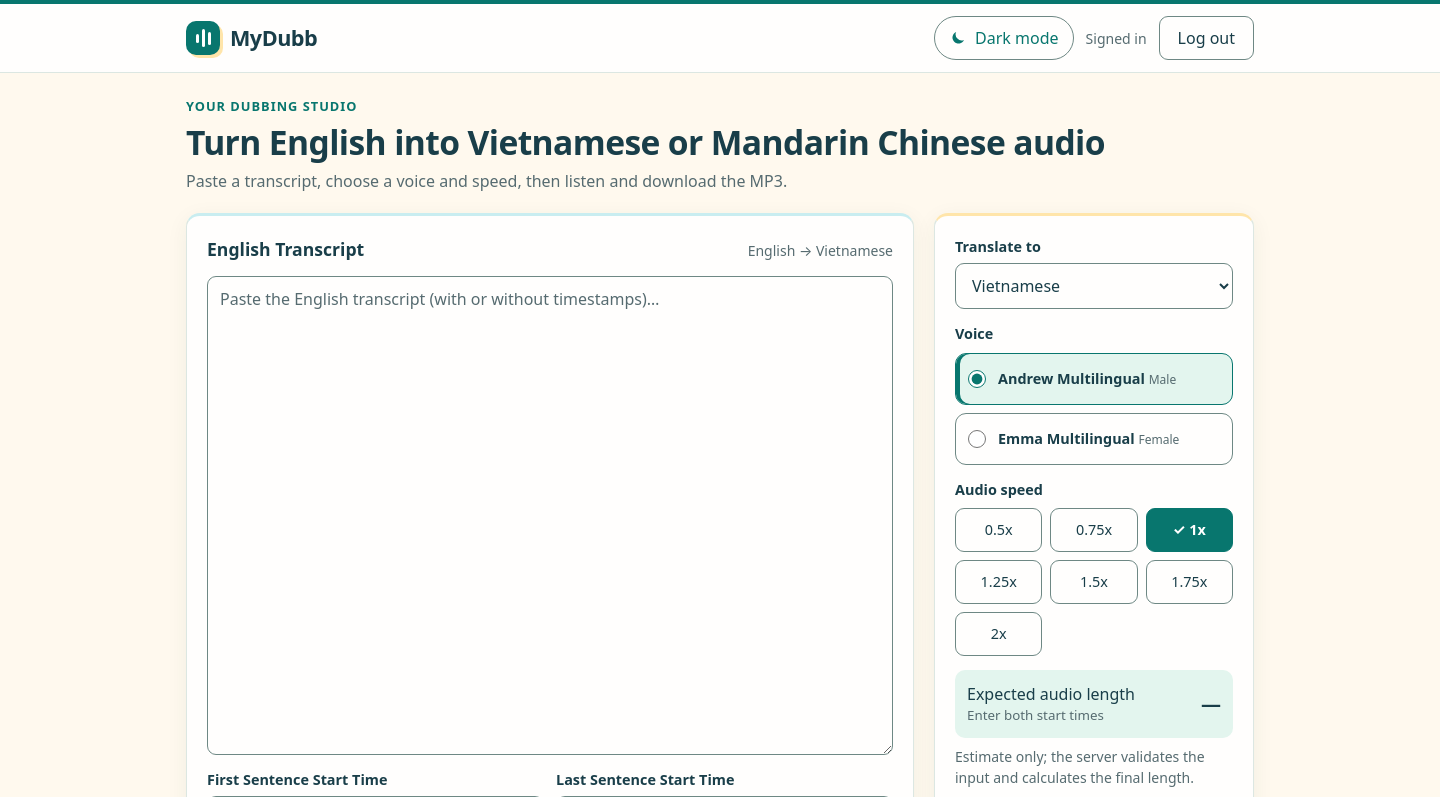
Translate to › sends Vietnamese by default
Type "Spring Boot uses JSON." into the text box labelled "English Transcript" at x=550, y=515, box x1=207 y1=276 x2=893 y2=755
(page scrolled)
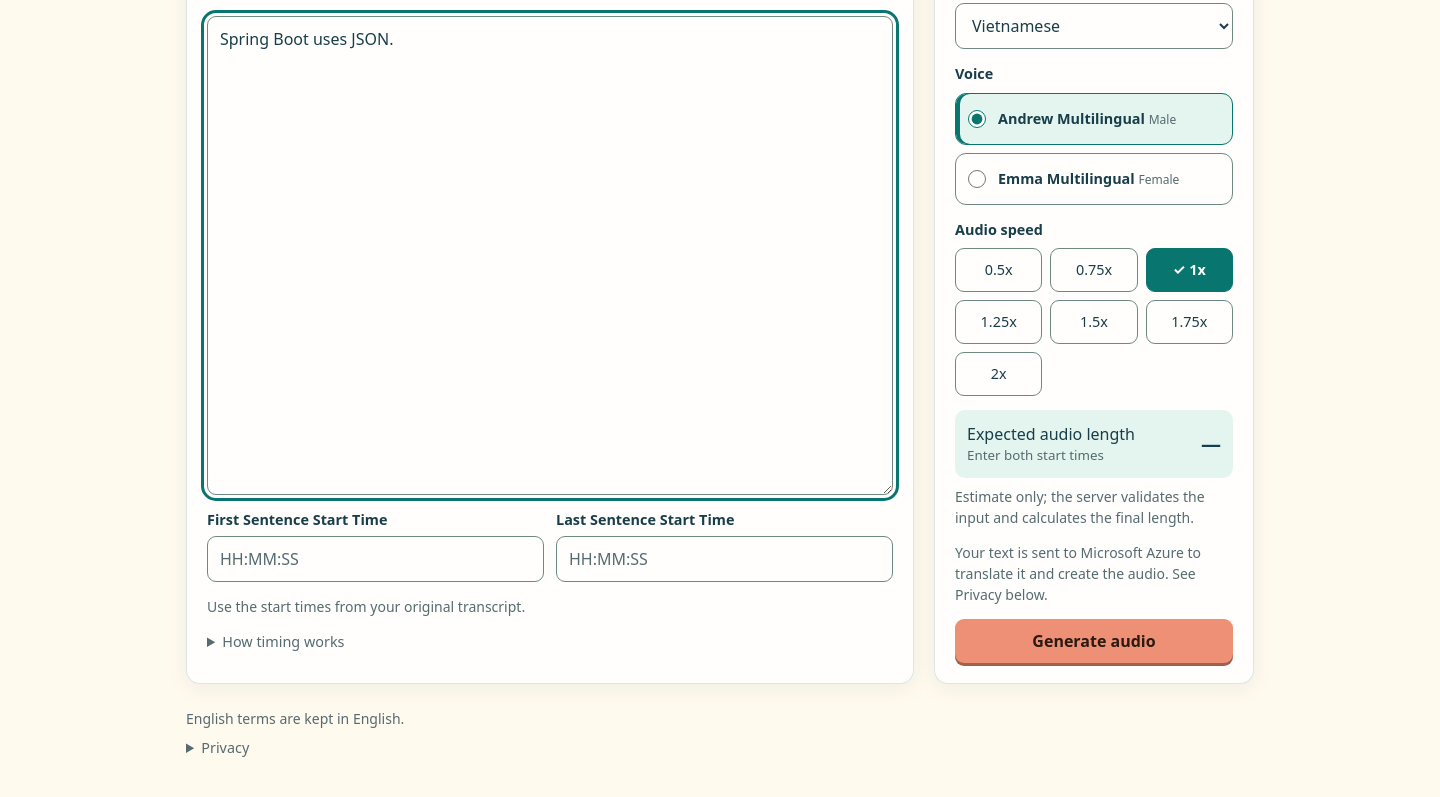
Type "00:00:10" into the field labelled "First Sentence Start Time" at x=376, y=559, box x1=207 y1=536 x2=544 y2=582
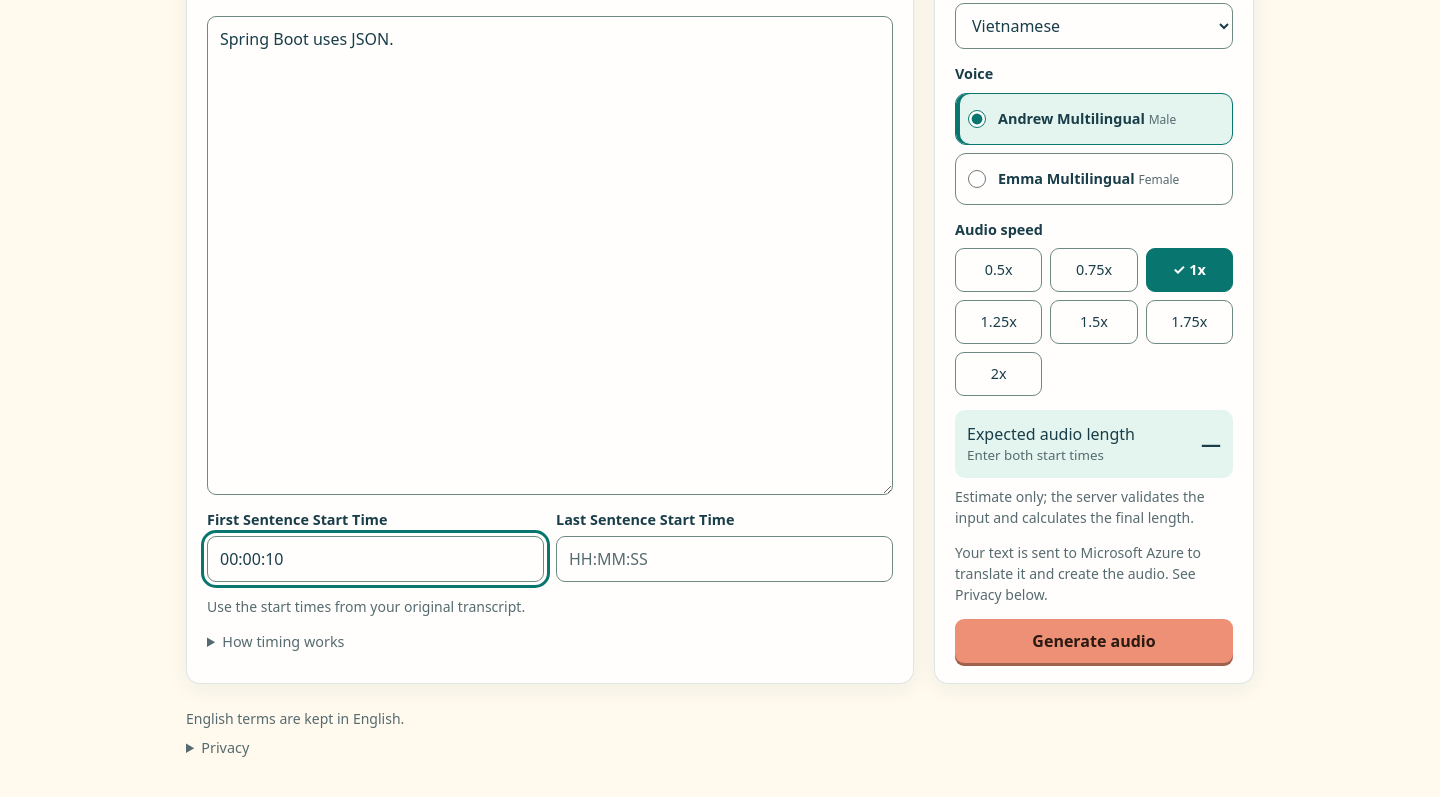
Type "00:06:10" into the field labelled "Last Sentence Start Time" at x=724, y=559, box x1=556 y1=536 x2=893 y2=582
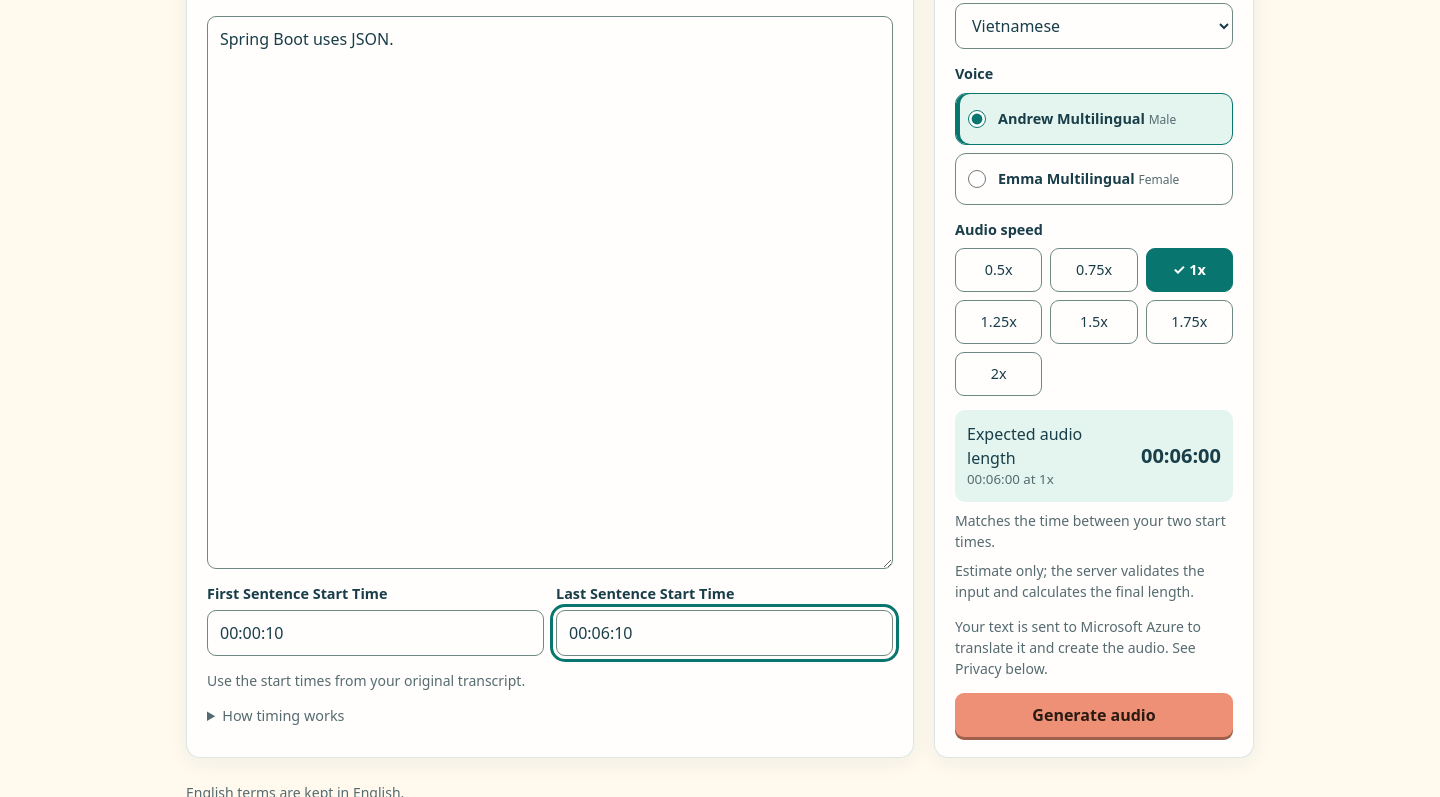
Click the button "Generate audio" at x=1094, y=715, box x1=955 y1=693 x2=1233 y2=737
(page scrolled)
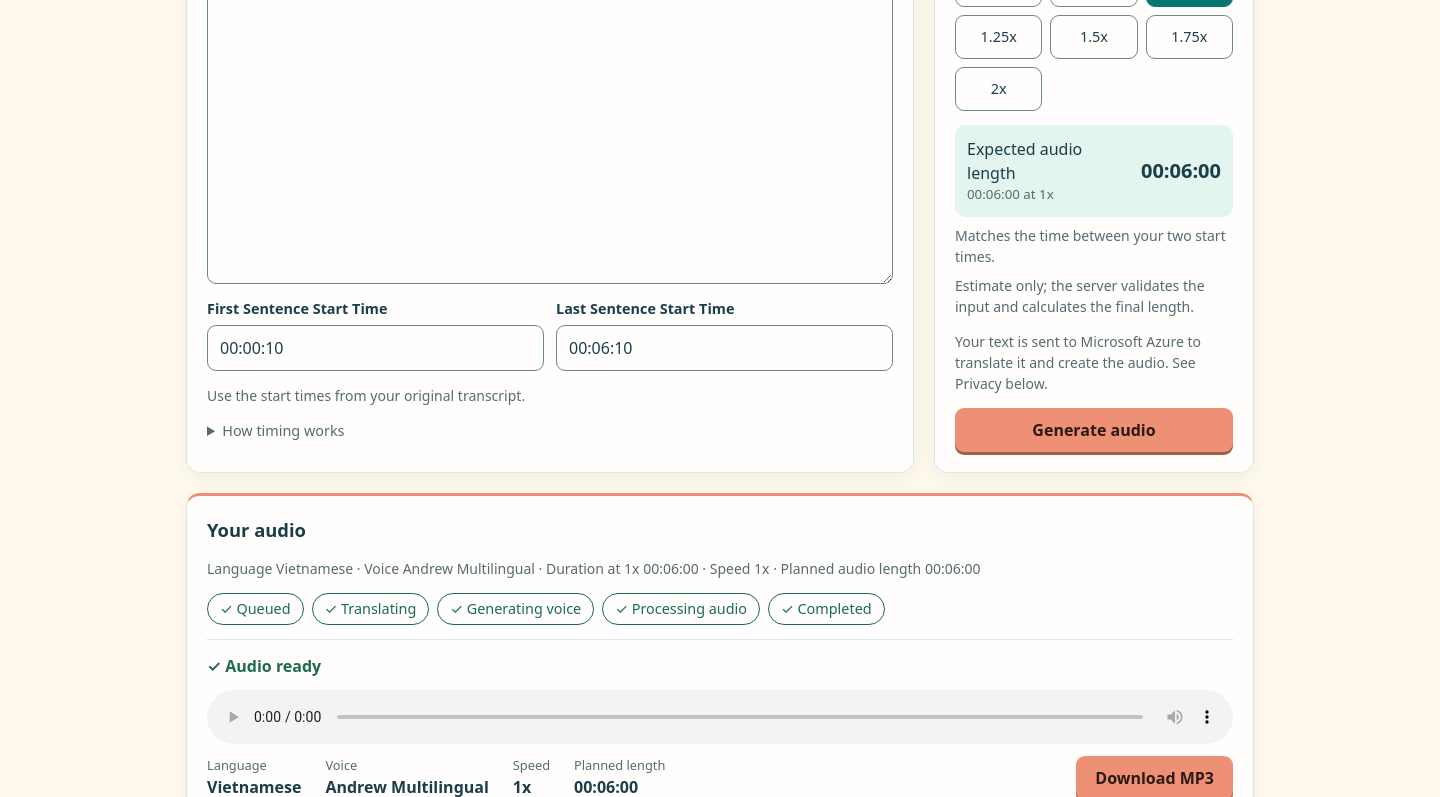
Expected: the text "Language Vietnamese" is shown, x1=207 y1=559 x2=980 y2=578
